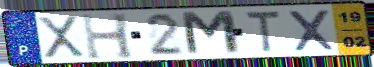2: (144, 12, 185, 57)
H: (79, 12, 138, 62)
M: (178, 9, 245, 58)
T: (243, 9, 283, 54)
X: (34, 14, 88, 60), (285, 8, 339, 53)
